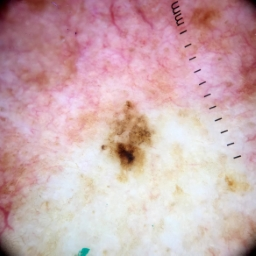melanoma: (102, 99, 152, 172)
